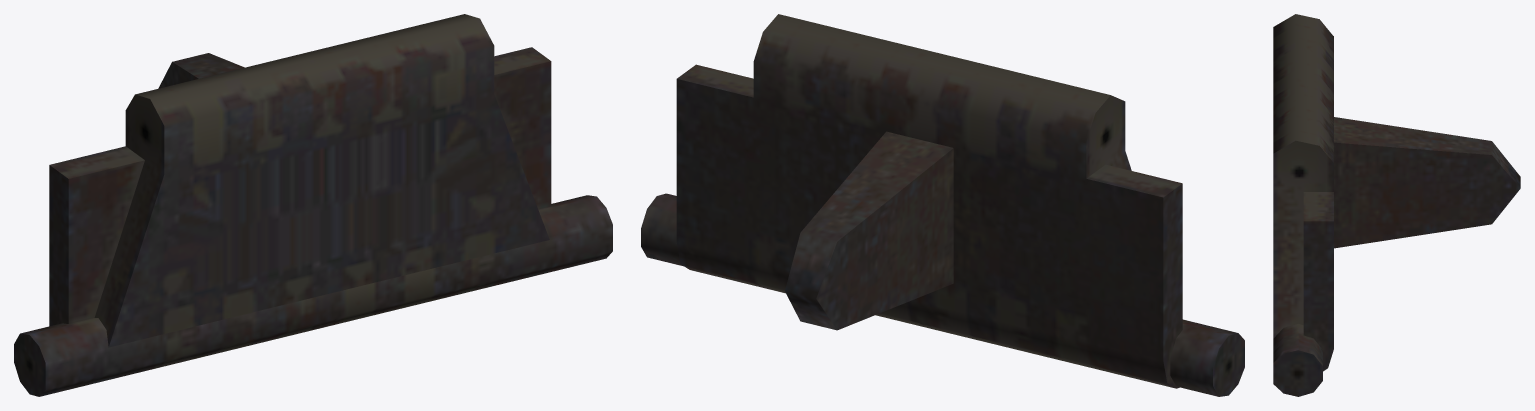
3 views of the same model, side by side, from view 1: azimuth 30°, elevation 25°; view 2: azimuth 150°, elevation 25°; view 3: azimuth 270°, elevation 25° (orthographic). The views are drawn at different scales.
Visible parts, largest first — view 1: set_0_group_0; view 2: set_0_group_0; view 3: set_0_group_0.
Boxes of the visible parts, x1,y1,x2,y2 form: set_0_group_0: (14, 14, 612, 396); set_0_group_0: (641, 14, 1244, 396); set_0_group_0: (1273, 14, 1520, 396).
Bounding box in the file's own units: 0.3409 × 0.1537 × 0.1634.
Materials: 1 (1 with a texture image).
